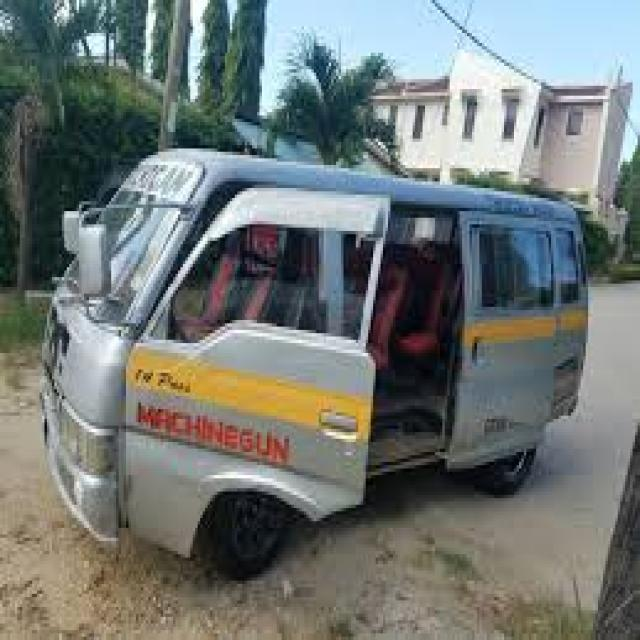matatu: (11, 54, 608, 592)
